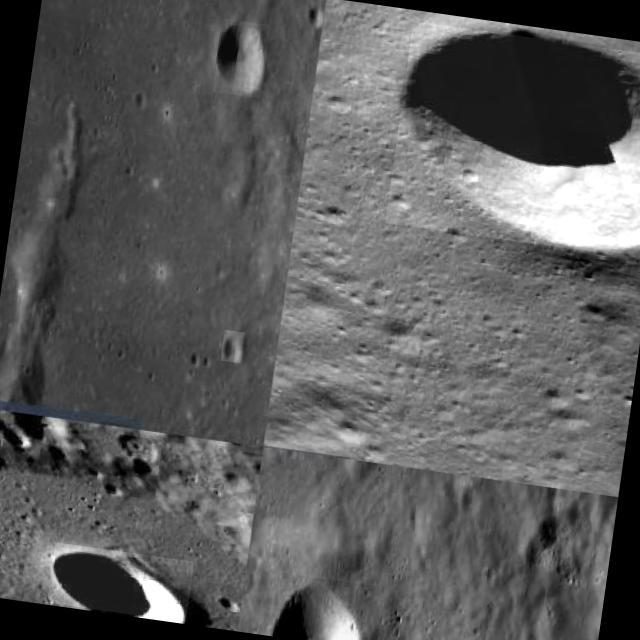crater: (385, 21, 640, 260), (47, 542, 194, 622), (269, 572, 375, 640), (212, 19, 270, 99), (221, 330, 245, 363)
